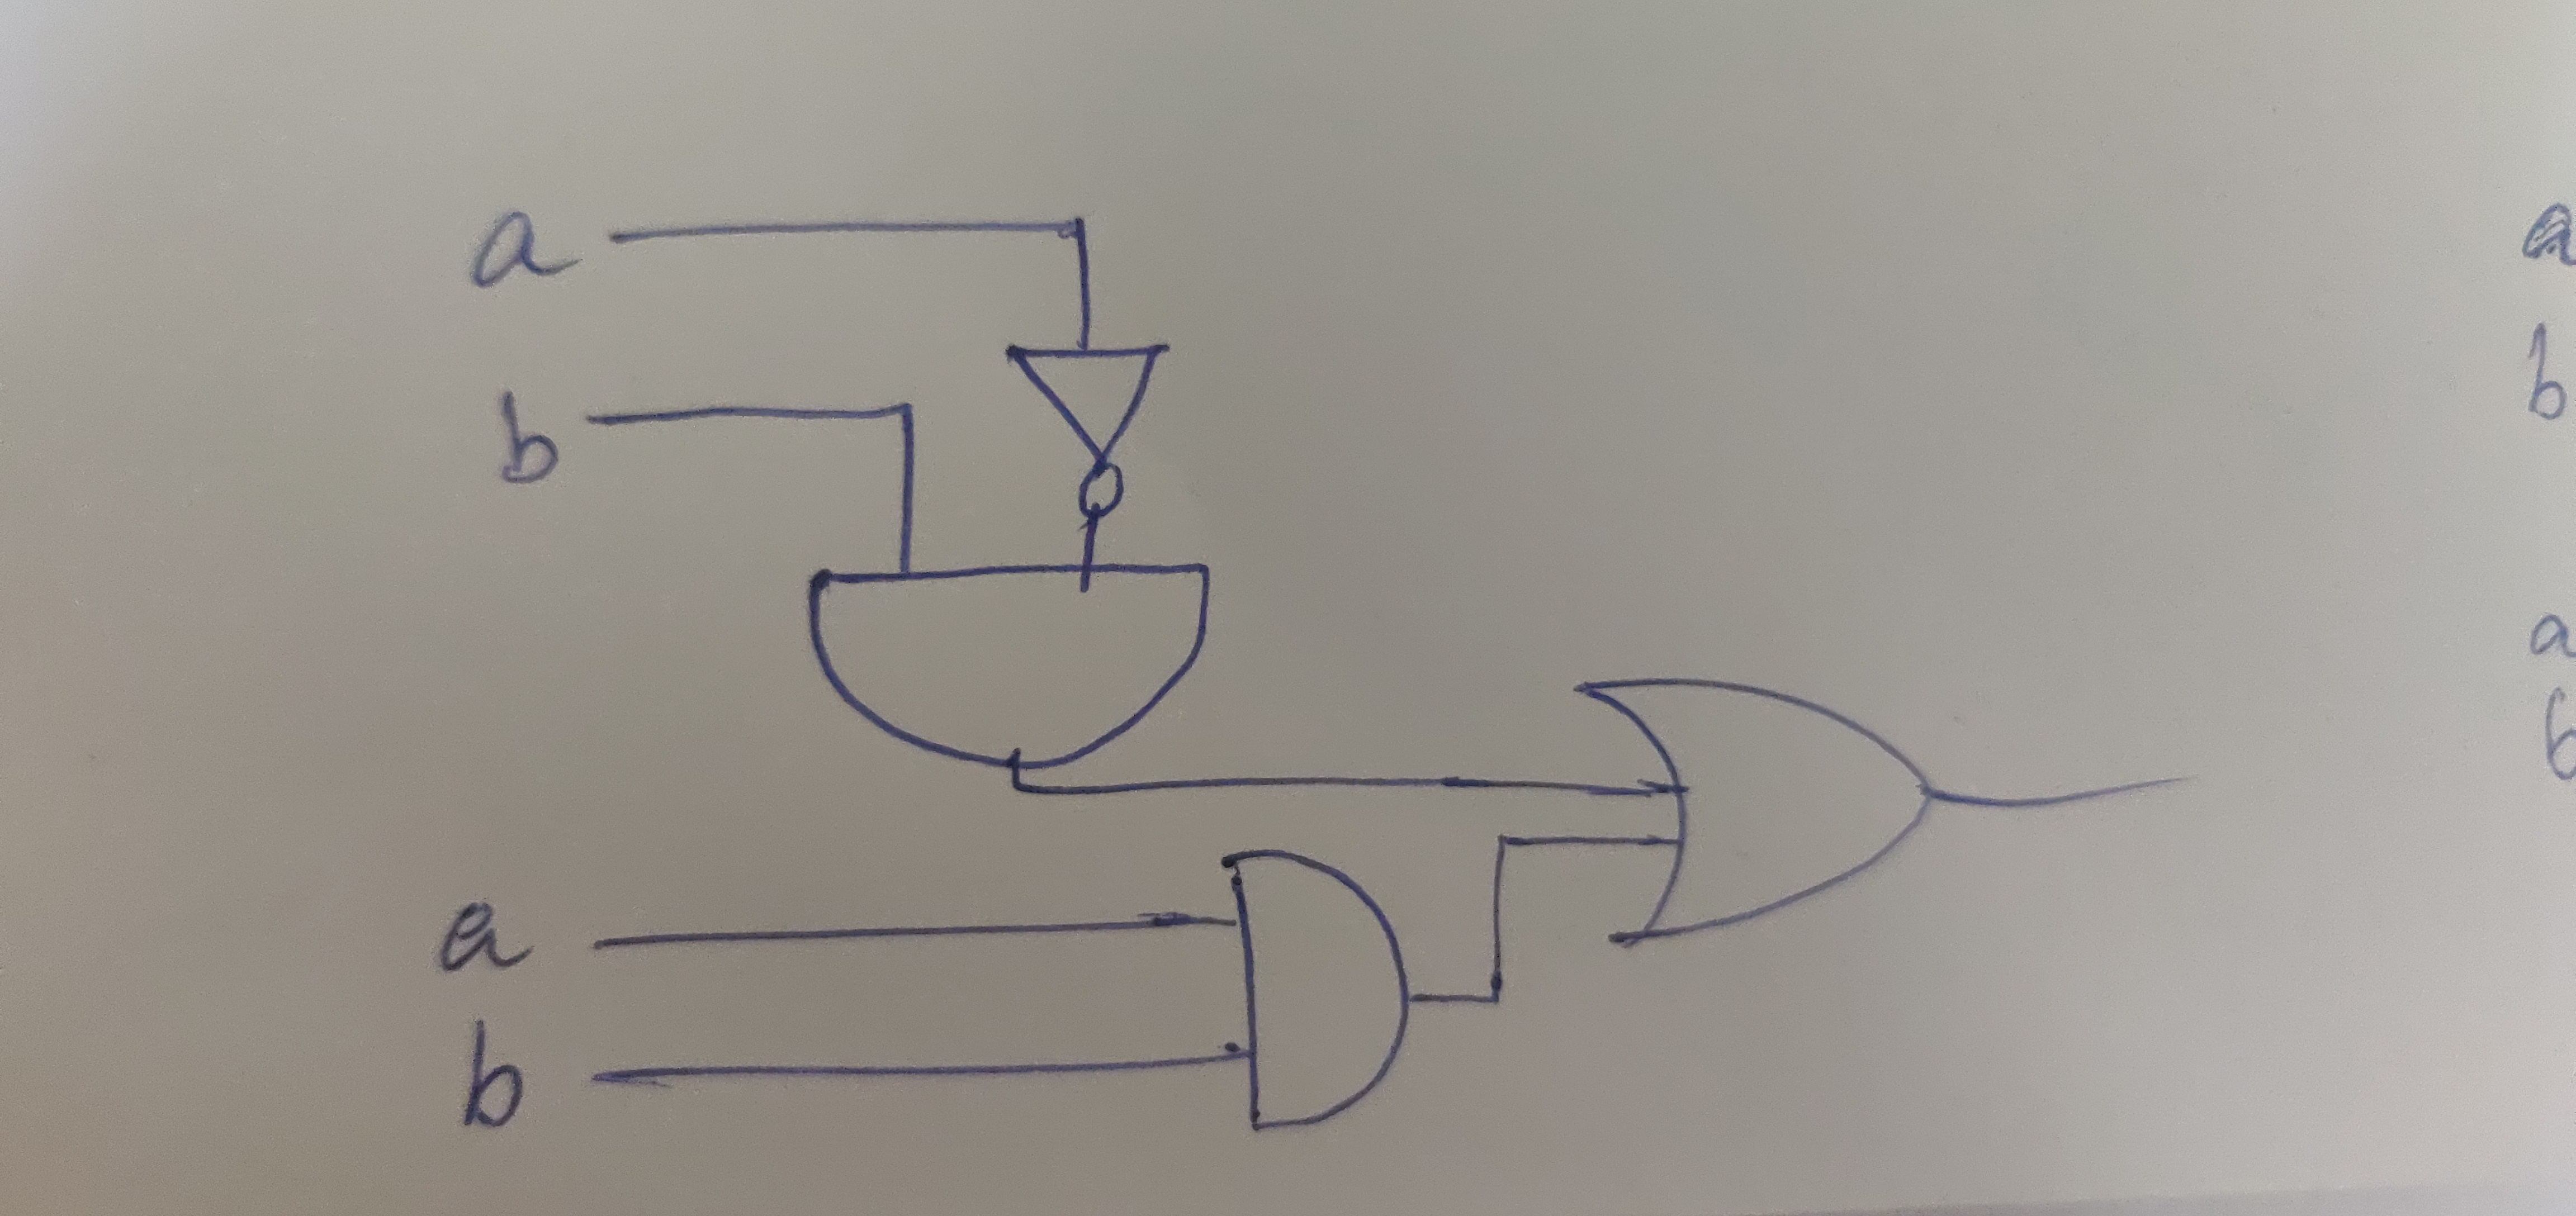and: (769, 539, 1226, 776), (1196, 818, 1439, 1154)
not: (989, 319, 1209, 523)
or: (1538, 654, 1981, 996)
